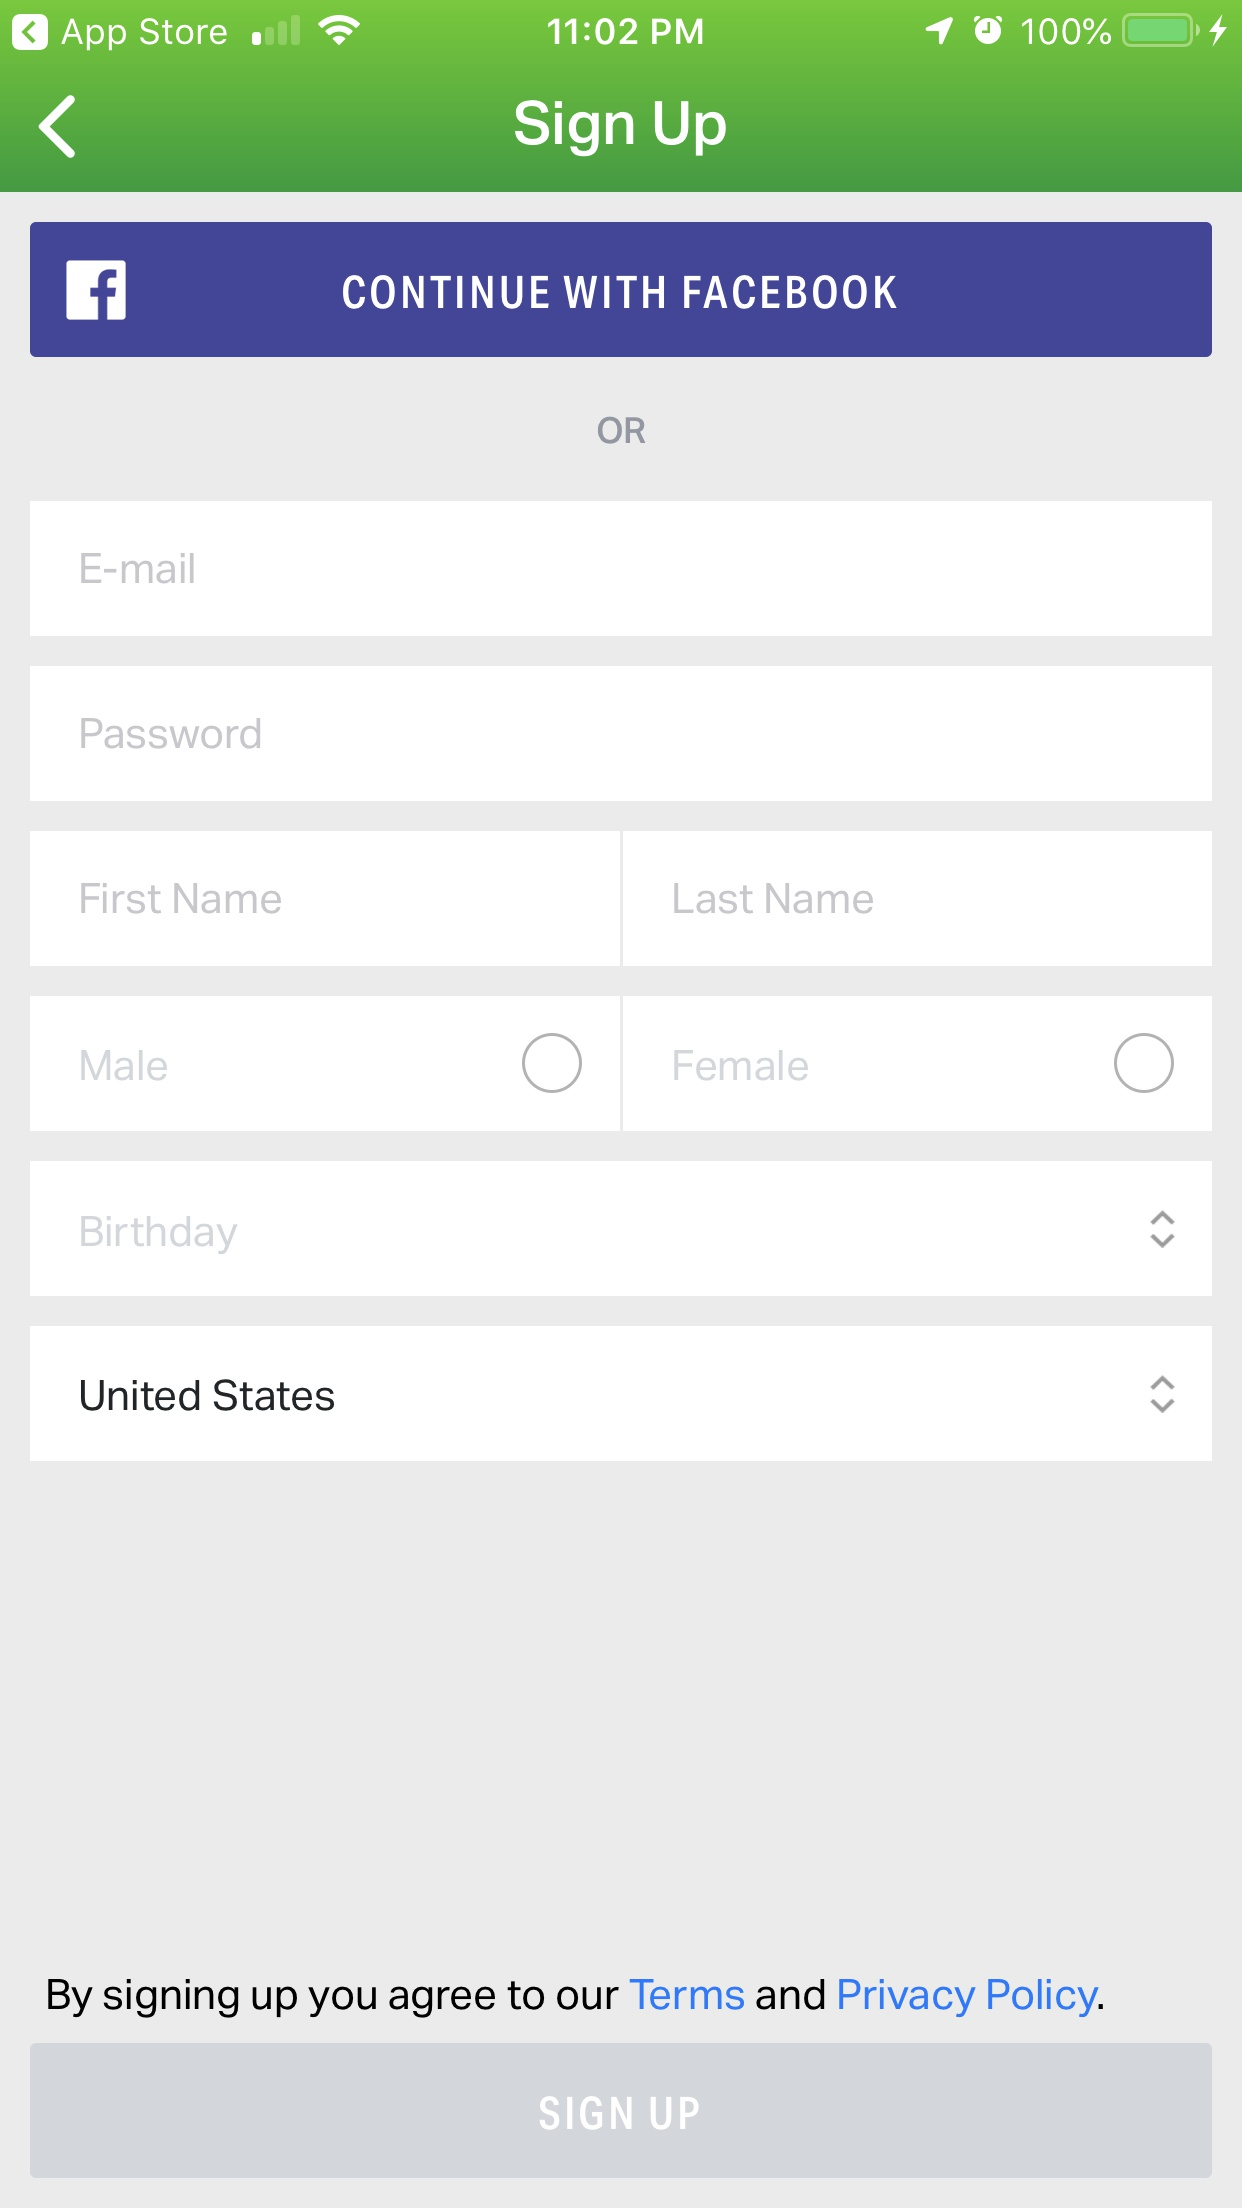CheckedTextView: (80, 1033, 582, 1093), (673, 1033, 1174, 1093)
EditText: (30, 667, 1213, 802), (30, 502, 1212, 637), (30, 1325, 1212, 1460), (30, 1162, 1212, 1297), (30, 833, 622, 968), (623, 833, 1212, 968)
Icon: (38, 96, 77, 161), (1149, 1212, 1175, 1250), (1149, 1375, 1175, 1413)
Text: (49, 1977, 1104, 2018), (516, 100, 726, 158), (82, 1378, 335, 1412), (80, 1215, 240, 1256), (80, 883, 284, 914), (80, 717, 262, 751), (673, 1049, 808, 1081), (80, 554, 196, 585), (82, 1049, 168, 1081), (597, 417, 648, 446)
TextButton: (30, 223, 1212, 358), (30, 2043, 1212, 2178)
UpperTaskBar: (2, 2, 1242, 53)
